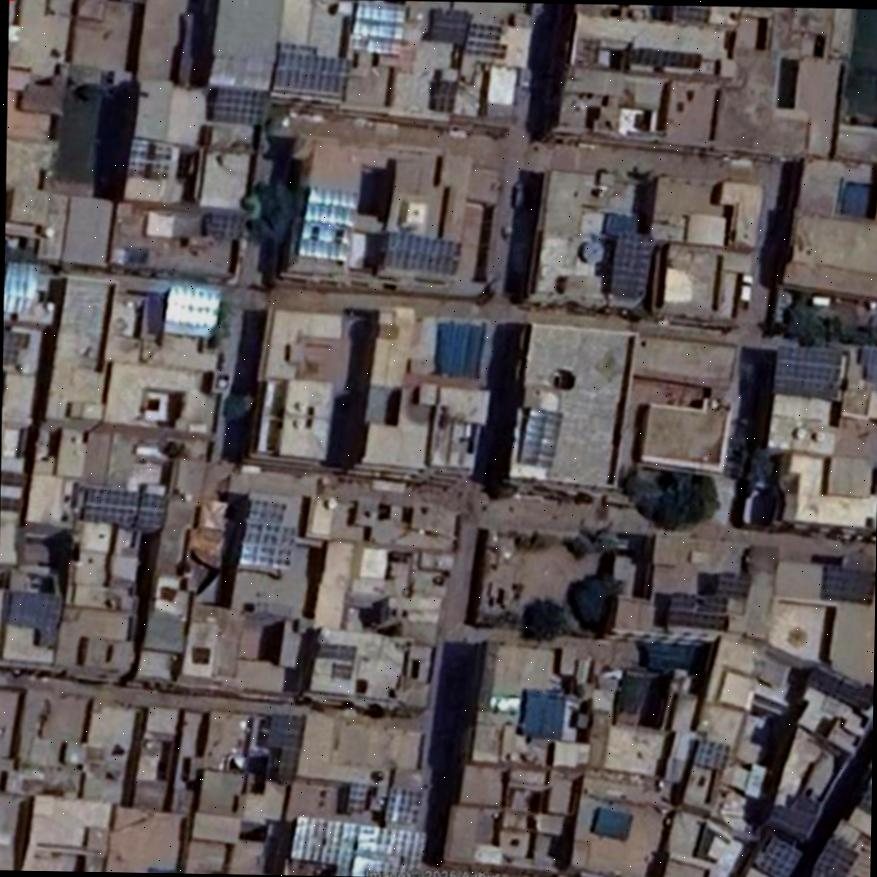Solarpanel: (284, 815, 424, 876), (296, 185, 358, 260), (237, 498, 298, 568), (273, 47, 350, 92), (80, 489, 168, 528), (773, 346, 841, 396), (345, 0, 404, 56), (382, 229, 458, 271), (605, 230, 654, 295), (164, 283, 222, 325), (665, 591, 730, 626), (4, 589, 58, 630), (751, 835, 801, 877), (212, 84, 268, 119), (125, 138, 171, 179), (822, 564, 873, 600), (425, 5, 470, 45), (811, 840, 856, 877), (466, 20, 507, 57), (630, 46, 701, 65), (690, 738, 729, 771), (384, 785, 417, 822), (202, 215, 246, 237)
